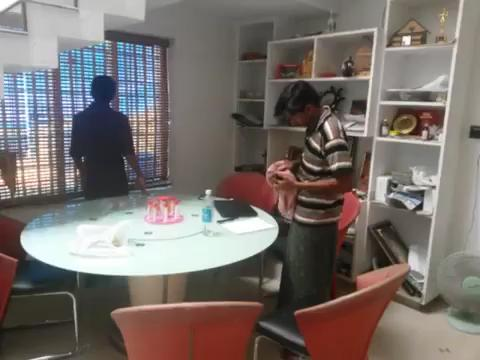chair: (252, 263, 410, 359), (1, 215, 79, 359), (258, 191, 360, 286), (109, 301, 263, 359), (215, 171, 279, 287)
closet_cabinet: (233, 1, 480, 306)
cup_glass_bottle: (144, 195, 183, 224)
floor: (1, 253, 480, 360), (1, 1, 182, 100)
paper_notebook: (212, 199, 275, 235)
person: (271, 80, 353, 312), (69, 75, 150, 200)
table_desk: (19, 193, 279, 353)
towel_s: (265, 159, 296, 224)
window: (1, 38, 167, 200)
